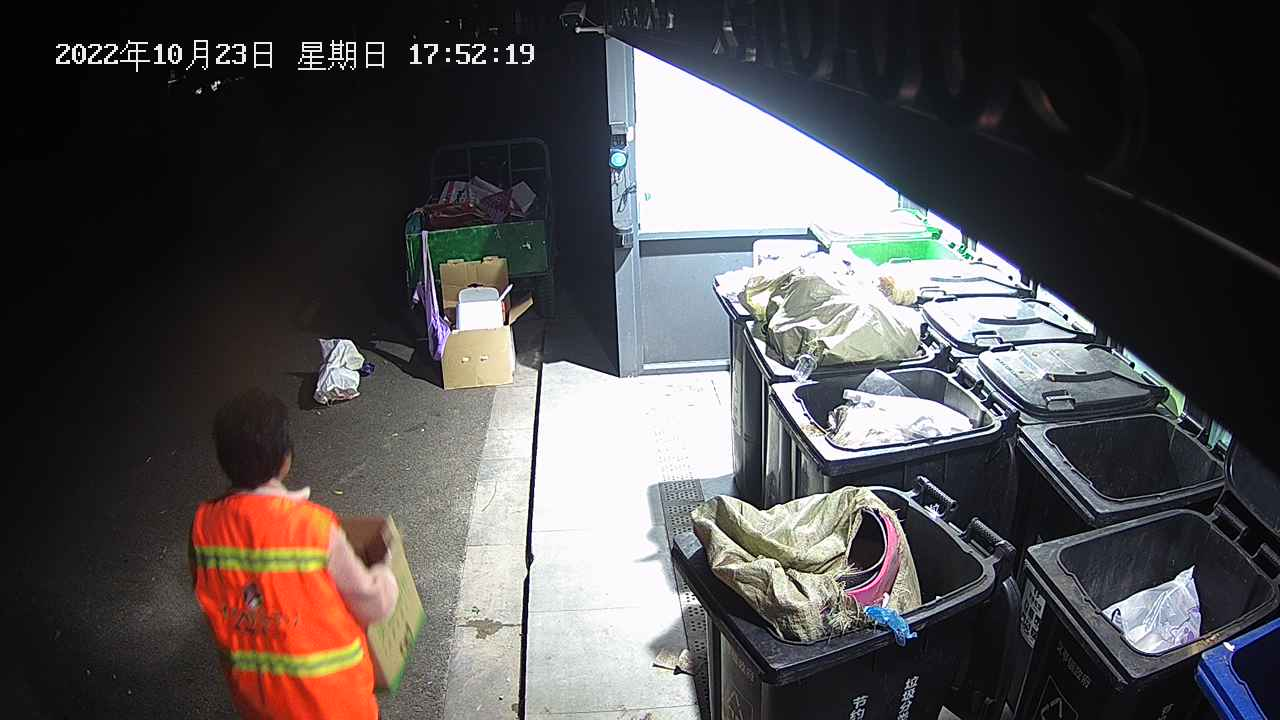suliaozhipin: (310, 331, 365, 404)
worker: (185, 385, 401, 720)
zhizhipin: (338, 512, 429, 701), (430, 251, 535, 393)
